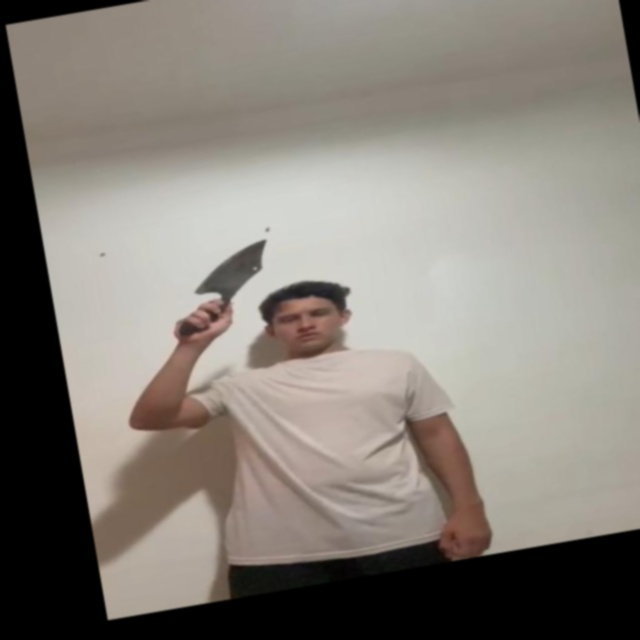Sharp-Object: (192, 234, 276, 299)
